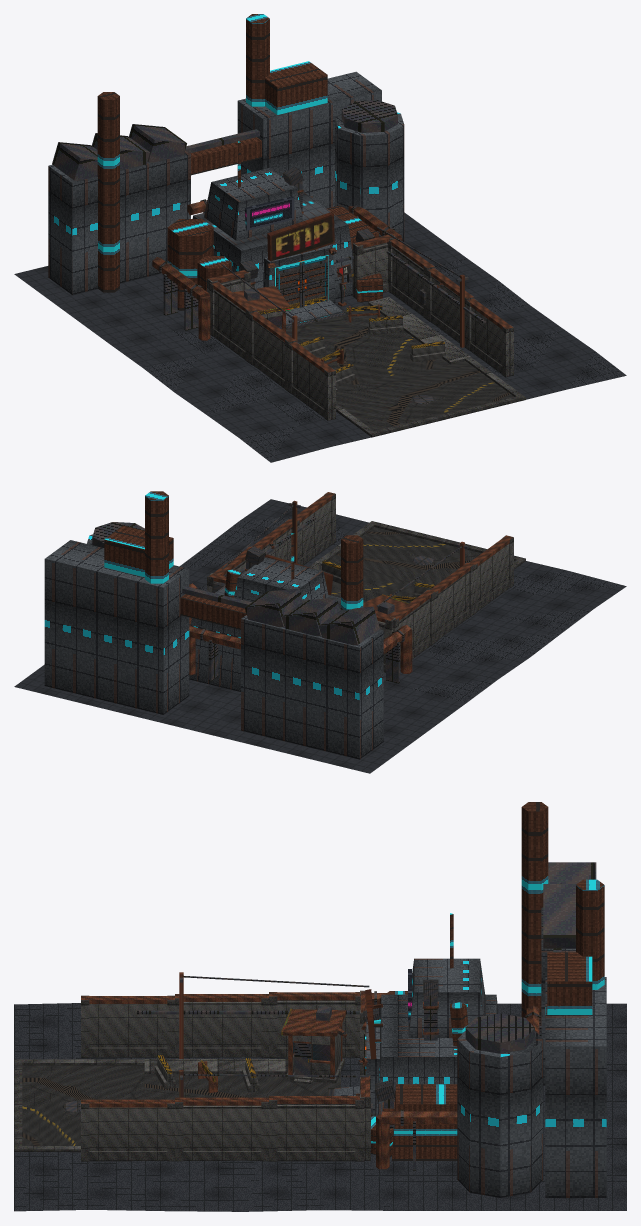
File: etip_cenario.obj
The picture shows the model from 3 angles, top to bottom: view 1: azimuth 30°, elevation 25°; view 2: azimuth 150°, elevation 25°; view 3: azimuth 270°, elevation 25°; orthographic projection. The views are drawn at different scales.
Visible parts, largest first — view 1: PS2_Mat_Concreto_Group, PS2_Mat_Chao_Group, PS2_Mat_Concreto_Bruto_Group, PS2_Mat_Ferrugem_Group, PS2_Mat_Asfalto_Via_Group, PS2_Mat_AcoEscuro_Group, PS2_Mat_Metal_Ferrugem_Group, PS2_Mat_Logo_ETIP_Group, PS2_Mat_Portao_Group, PS2_Mat_Advertencia_Group, PS2_Mat_PlacaCyber_Group; view 2: PS2_Mat_Concreto_Group, PS2_Mat_Chao_Group, PS2_Mat_Concreto_Bruto_Group, PS2_Mat_AcoEscuro_Group, PS2_Mat_Ferrugem_Group, PS2_Mat_Asfalto_Via_Group, PS2_Mat_Metal_Ferrugem_Group; view 3: PS2_Mat_Concreto_Group, PS2_Mat_Concreto_Bruto_Group, PS2_Mat_Chao_Group, PS2_Mat_Ferrugem_Group, PS2_Mat_Asfalto_Via_Group, PS2_Mat_AcoEscuro_Group, PS2_Mat_Metal_Ferrugem_Group.
Boxes of the visible parts, x1,y1,x2,y2 form: PS2_Mat_Concreto_Group: (48,71,404,326); PS2_Mat_Chao_Group: (14,212,626,462); PS2_Mat_Concreto_Bruto_Group: (207,234,525,437); PS2_Mat_Ferrugem_Group: (97,14,382,318); PS2_Mat_Asfalto_Via_Group: (286,304,514,430); PS2_Mat_AcoEscuro_Group: (52,100,485,403); PS2_Mat_Metal_Ferrugem_Group: (152,189,512,372); PS2_Mat_Logo_ETIP_Group: (267,212,334,261); PS2_Mat_Portao_Group: (274,254,328,309); PS2_Mat_Advertencia_Group: (257,251,444,373); PS2_Mat_PlacaCyber_Group: (245,196,294,230); PS2_Mat_Concreto_Group: (44,534,383,759); PS2_Mat_Chao_Group: (14,499,626,773); PS2_Mat_Concreto_Bruto_Group: (207,492,525,672); PS2_Mat_AcoEscuro_Group: (92,503,468,683); PS2_Mat_Ferrugem_Group: (104,491,363,629); PS2_Mat_Asfalto_Via_Group: (328,527,514,603); PS2_Mat_Metal_Ferrugem_Group: (189,492,512,675); PS2_Mat_Concreto_Group: (334,907,606,1197); PS2_Mat_Concreto_Bruto_Group: (14,990,370,1161); PS2_Mat_Chao_Group: (14,1003,626,1211); PS2_Mat_Ferrugem_Group: (371,802,604,1160); PS2_Mat_Asfalto_Via_Group: (22,1065,340,1145); PS2_Mat_AcoEscuro_Group: (62,862,596,1170); PS2_Mat_Metal_Ferrugem_Group: (81,972,539,1169).
Size of the model in its own units: 24 by 13.7 by 30.
12 materials, 12 textured.
